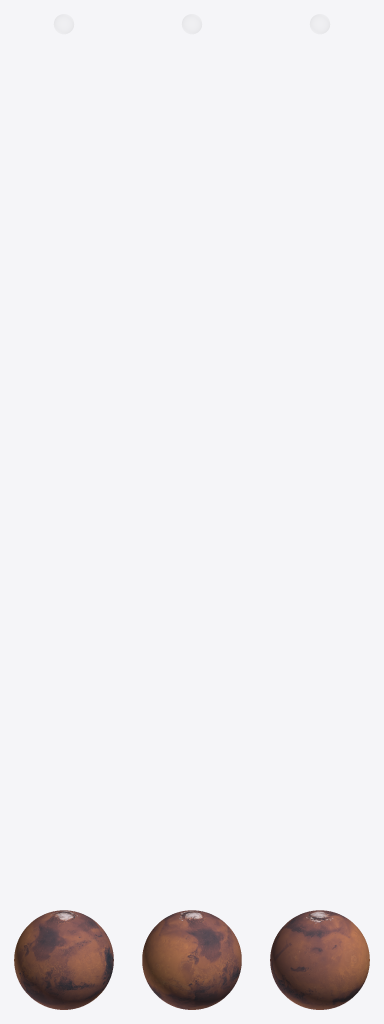
The picture shows the model from 3 angles, left to right: view 1: azimuth 90°, elevation 25°; view 2: azimuth 150°, elevation 25°; view 3: azimuth 270°, elevation 25°; orthographic projection.
Parts seen in each view (by area): view 1: mars; view 2: mars; view 3: mars.
Boxes of the visible parts, left/top/right/bottom form: mars: left=14, top=910, right=113, bottom=1009; mars: left=142, top=910, right=241, bottom=1009; mars: left=270, top=910, right=369, bottom=1009.
Bounding box in the file's own units: 0.0649 × 0.7113 × 0.0649.
2 materials, 1 textured.
